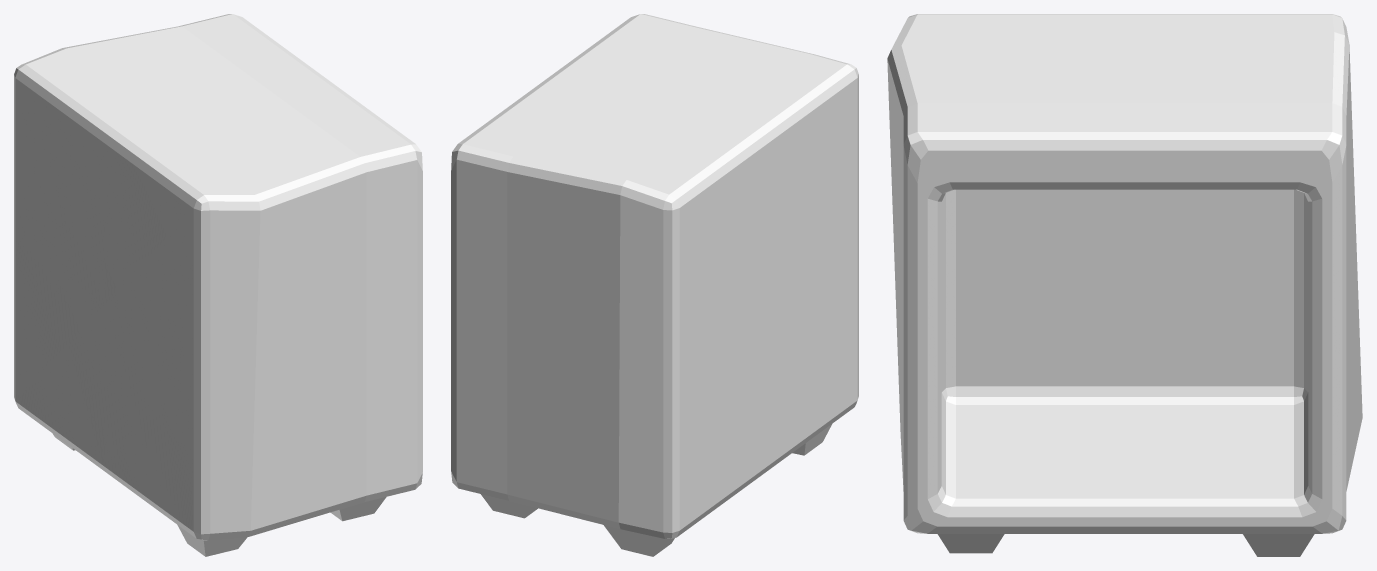
File: SafeBody.fbx
The picture shows the model from 3 angles, left to right: view 1: azimuth 30°, elevation 25°; view 2: azimuth 150°, elevation 25°; view 3: azimuth 270°, elevation 25°; orthographic projection. The views are drawn at different scales.
Visible parts, largest first — view 1: SafeBody; view 2: SafeBody; view 3: SafeBody.
Part boxes in pixels (x1,y1,x2,y2): SafeBody: (14,14,422,556); SafeBody: (451,14,858,556); SafeBody: (887,14,1362,556).
Size of the model in its own units: 47.27 by 75.08 by 73.43.
Materials: 1 (1 with a texture image).
